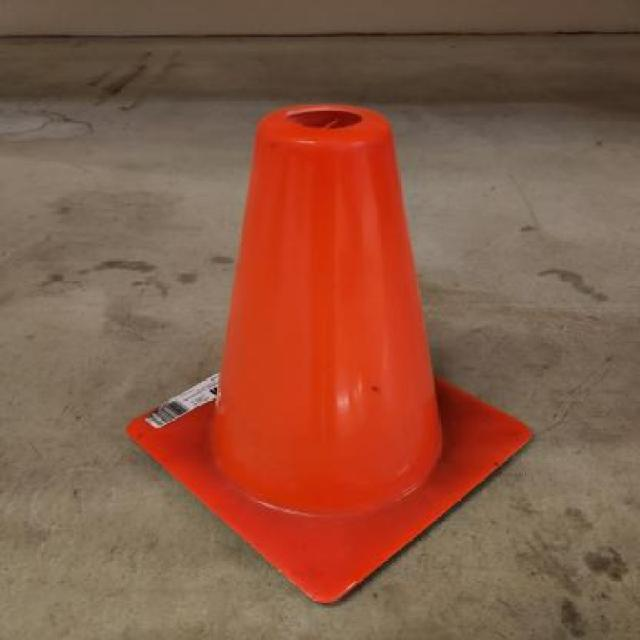traffic cone: (115, 93, 544, 615)
